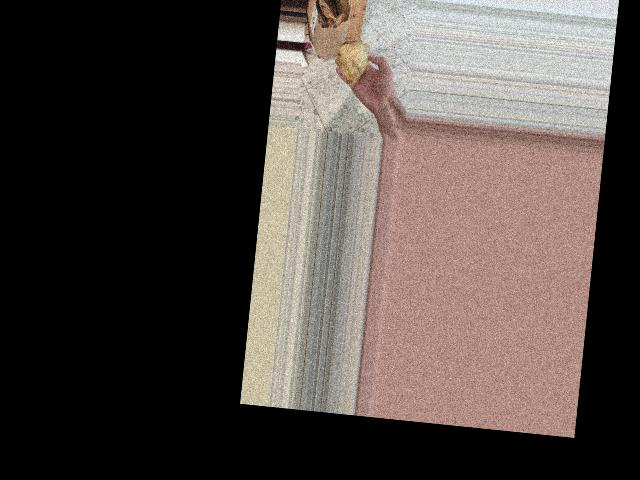onion: (333, 37, 373, 88)
